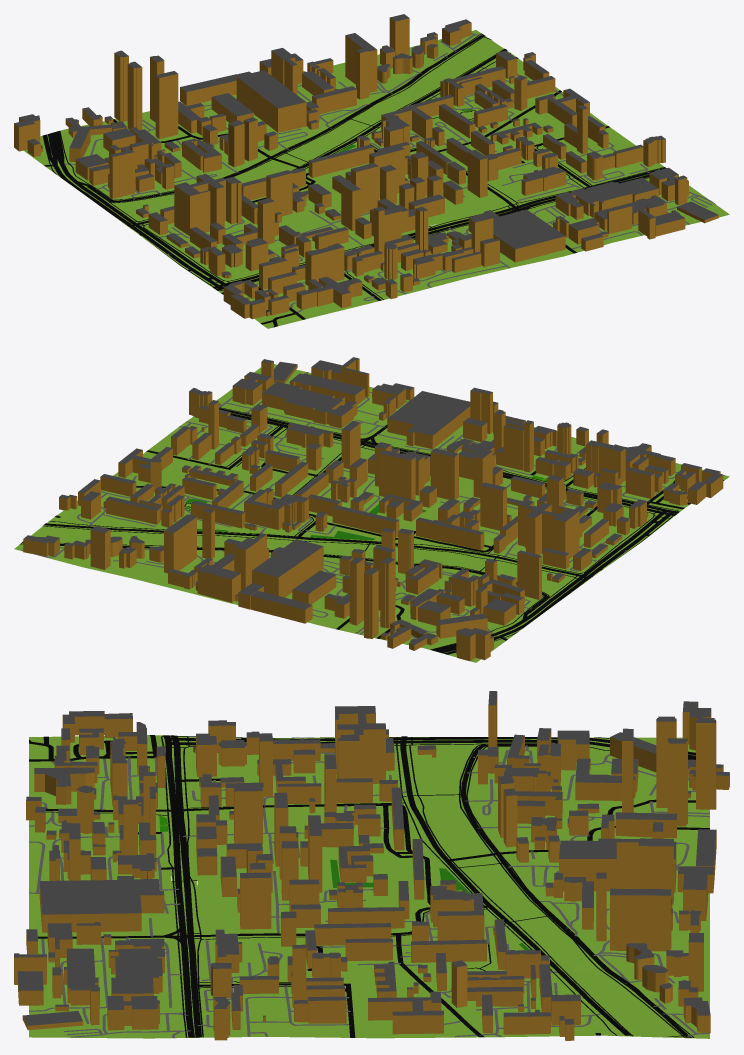
File: tile_04_02.glb
The picture shows the model from 3 angles, top to bottom: view 1: azimuth 30°, elevation 25°; view 2: azimuth 150°, elevation 25°; view 3: azimuth 270°, elevation 25°; orthographic projection. The views are drawn at different scales.
Parts seen in each view (by area): view 1: Ub_small.osm_buildings_04_02, Terrain_04_02, Ub_small.osm_roads_service_04_02, Ub_small.osm_paths_footway_04_02, Ub_small.osm_roads_primary_04_02, Ub_small.osm_roads_tertiary_04_02, Ub_small.osm_roads_residential_04_02, Ub_small.osm_roads_trunk_04_02, Ub_small.osm_roads_secondary_04_02; view 2: Ub_small.osm_buildings_04_02, Terrain_04_02, Ub_small.osm_roads_service_04_02, Ub_small.osm_paths_footway_04_02, Ub_small.osm_roads_primary_04_02, Ub_small.osm_roads_residential_04_02, Ub_small.osm_roads_secondary_04_02, Ub_small.osm_roads_trunk_04_02, Ub_small.osm_roads_tertiary_04_02, Ub_small.osm_forest_04_02; view 3: Ub_small.osm_buildings_04_02, Terrain_04_02, Ub_small.osm_roads_service_04_02, Ub_small.osm_roads_trunk_04_02, Ub_small.osm_paths_footway_04_02, Ub_small.osm_roads_residential_04_02, Ub_small.osm_roads_tertiary_04_02, Ub_small.osm_roads_secondary_04_02, Ub_small.osm_roads_primary_04_02, Ub_small.osm_paths_cycleway_04_02, Ub_small.osm_forest_04_02.
Part boxes in pixels (<box>): Ub_small.osm_buildings_04_02: <box>14,14,718,319</box>; Terrain_04_02: <box>24,30,729,328</box>; Ub_small.osm_roads_service_04_02: <box>65,33,715,312</box>; Ub_small.osm_paths_footway_04_02: <box>42,33,664,299</box>; Ub_small.osm_roads_primary_04_02: <box>47,132,228,288</box>; Ub_small.osm_roads_tertiary_04_02: <box>75,34,516,208</box>; Ub_small.osm_roads_residential_04_02: <box>113,57,609,327</box>; Ub_small.osm_roads_trunk_04_02: <box>213,167,666,290</box>; Ub_small.osm_roads_secondary_04_02: <box>127,49,507,226</box>; Ub_small.osm_buildings_04_02: <box>23,357,723,661</box>; Terrain_04_02: <box>14,364,729,662</box>; Ub_small.osm_roads_service_04_02: <box>22,372,677,638</box>; Ub_small.osm_paths_footway_04_02: <box>20,407,678,654</box>; Ub_small.osm_roads_primary_04_02: <box>434,511,673,653</box>; Ub_small.osm_roads_residential_04_02: <box>55,426,724,638</box>; Ub_small.osm_roads_secondary_04_02: <box>43,523,590,579</box>; Ub_small.osm_roads_trunk_04_02: <box>219,408,679,515</box>; Ub_small.osm_roads_tertiary_04_02: <box>21,443,548,620</box>; Ub_small.osm_forest_04_02: <box>184,498,426,540</box>; Ub_small.osm_buildings_04_02: <box>14,691,729,1040</box>; Terrain_04_02: <box>29,735,709,1038</box>; Ub_small.osm_roads_service_04_02: <box>29,737,709,1037</box>; Ub_small.osm_roads_trunk_04_02: <box>163,735,201,1037</box>; Ub_small.osm_paths_footway_04_02: <box>46,736,695,1037</box>; Ub_small.osm_roads_residential_04_02: <box>29,735,709,1037</box>; Ub_small.osm_roads_tertiary_04_02: <box>190,741,691,1037</box>; Ub_small.osm_roads_secondary_04_02: <box>400,736,630,1035</box>; Ub_small.osm_roads_primary_04_02: <box>168,737,695,759</box>; Ub_small.osm_paths_cycleway_04_02: <box>459,743,685,1037</box>; Ub_small.osm_forest_04_02: <box>330,859,528,950</box>.
Size of the model in its own units: 1009 by 133 by 978.
